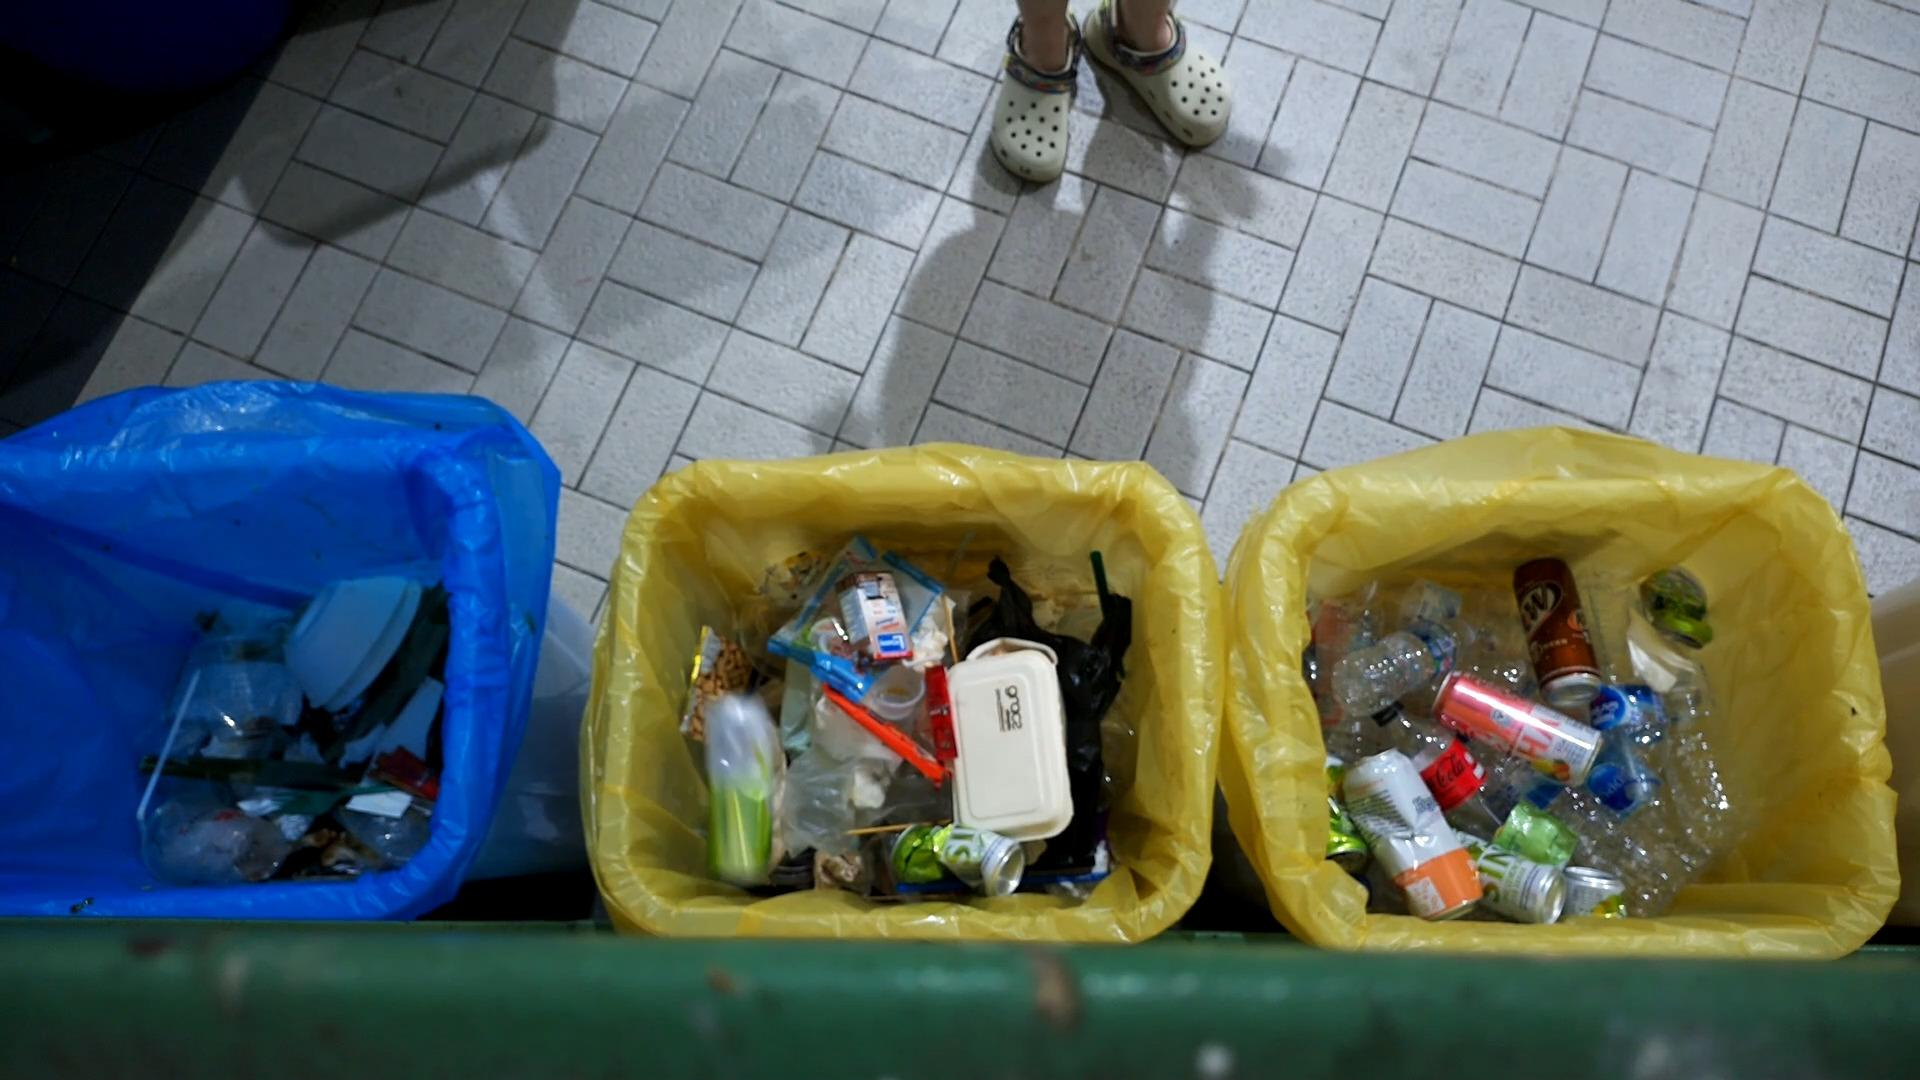can: (1342, 746, 1485, 923), (1432, 669, 1605, 793), (694, 692, 785, 886), (1510, 554, 1605, 709), (1444, 823, 1572, 922), (890, 818, 1023, 899), (1638, 563, 1717, 650), (1324, 749, 1370, 874), (1560, 860, 1634, 923)
food container: (943, 649, 1076, 841), (280, 571, 426, 719), (872, 663, 924, 720)
milk carton: (833, 568, 918, 671)
plastic bag: (777, 708, 864, 856)
plastic bottle: (1502, 760, 1695, 915), (1371, 699, 1513, 839), (1329, 611, 1481, 719), (1588, 658, 1679, 829), (1654, 669, 1739, 849)
snack packaging: (766, 533, 940, 699), (816, 680, 953, 785), (675, 624, 761, 738), (368, 742, 439, 802), (920, 659, 957, 764)
sticks: (938, 592, 960, 661), (840, 822, 931, 836)
straw: (131, 670, 204, 824)
tissue paper: (1623, 605, 1698, 694), (905, 593, 956, 673), (812, 848, 877, 898), (1031, 599, 1065, 634), (235, 795, 281, 820), (273, 814, 314, 841)
